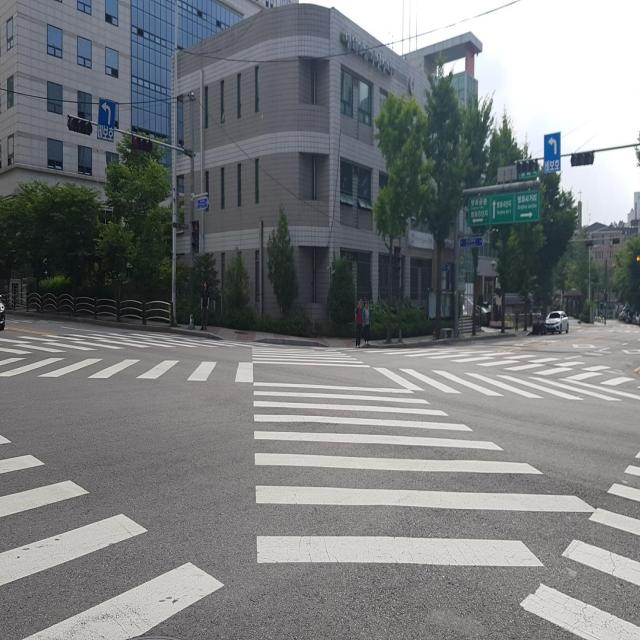횡단보도: (252, 346, 596, 569), (0, 414, 243, 638), (522, 403, 640, 636), (359, 345, 636, 401), (0, 335, 251, 385)
